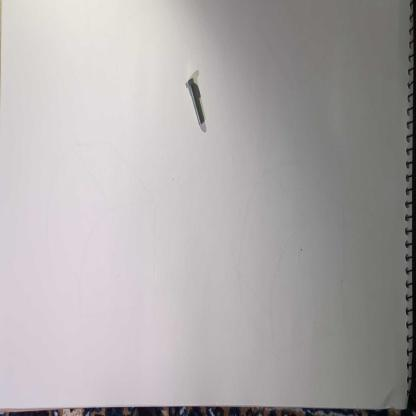Bolts: (183, 72, 208, 130)
